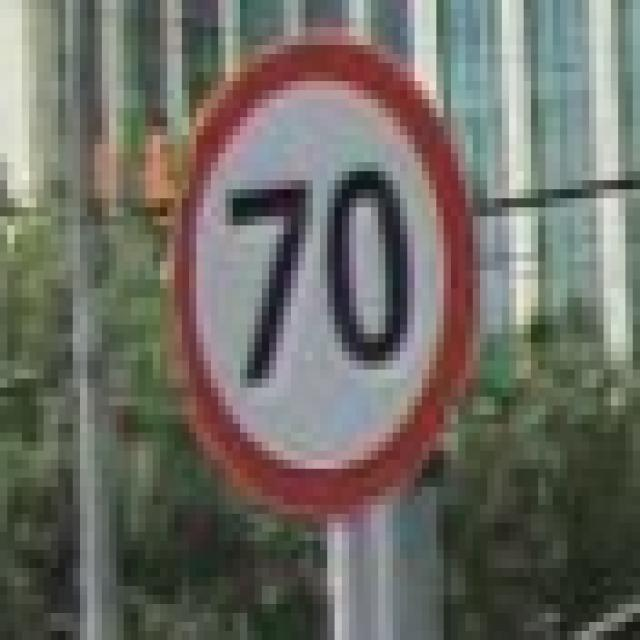Speed Limit -70-: (225, 156, 412, 396)
